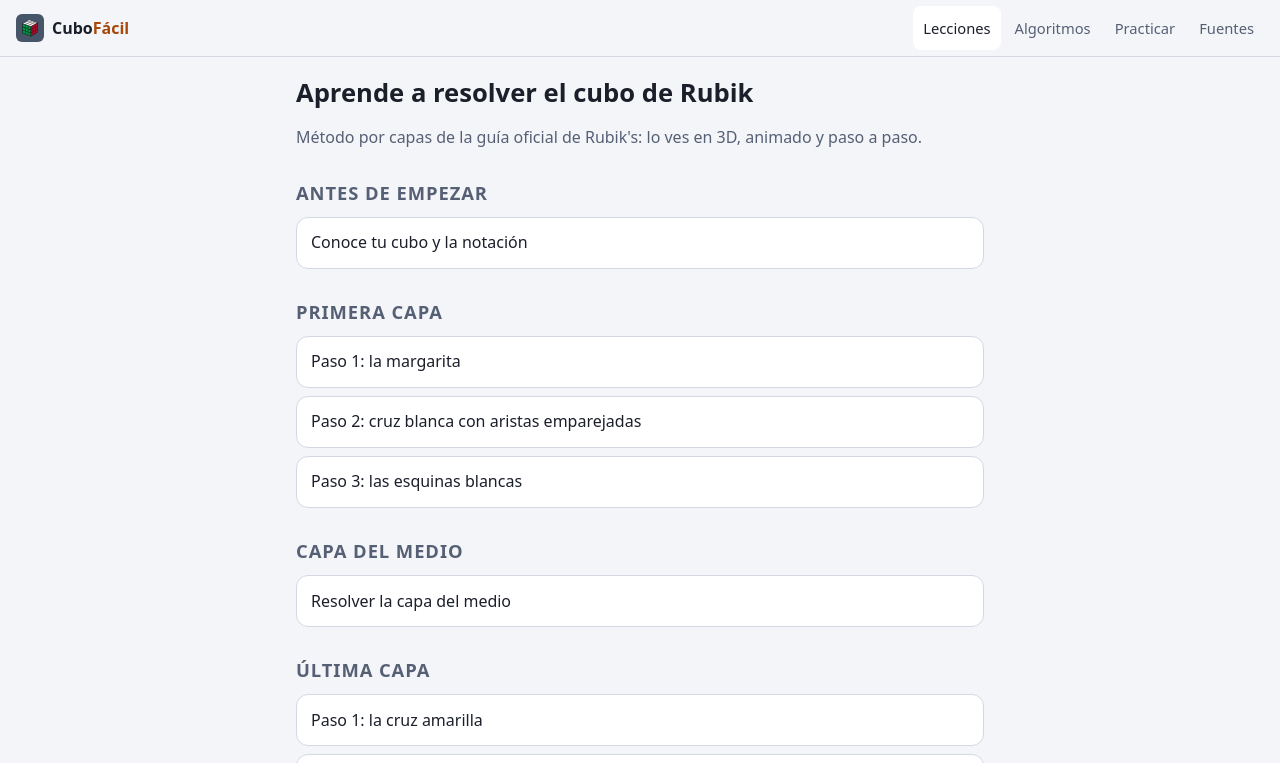
Test: App › abre una lección con su texto y su reproductor
Click the link "Paso 1: la margarita".
click(386, 361)  # box [296,336,984,388]
(page scrolled)
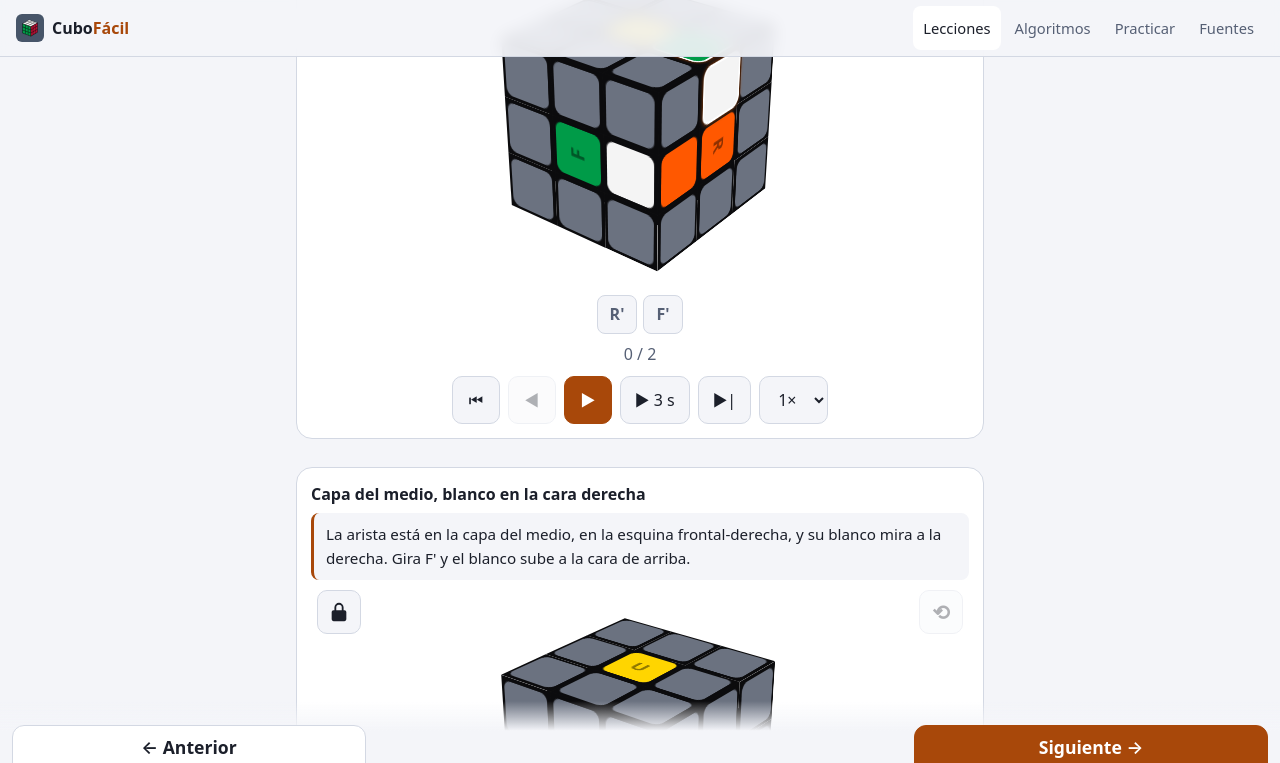
Expected: the button named "Siguiente" is shown, [698,376,751,424]
